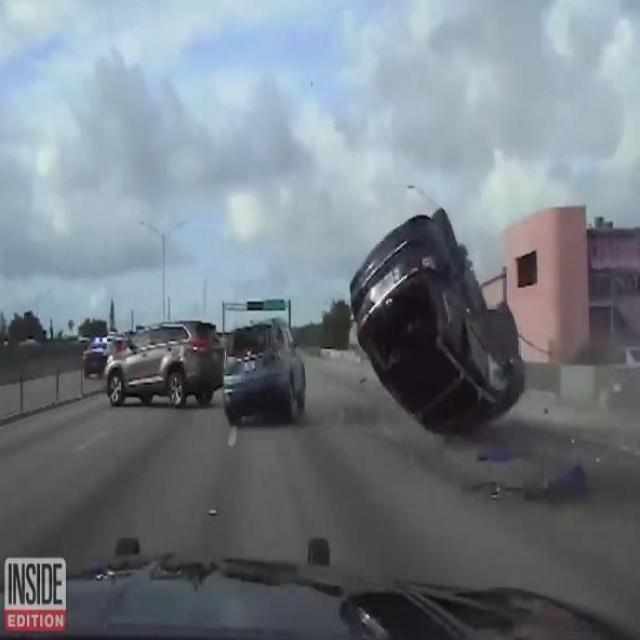accident: (347, 211, 531, 438)
